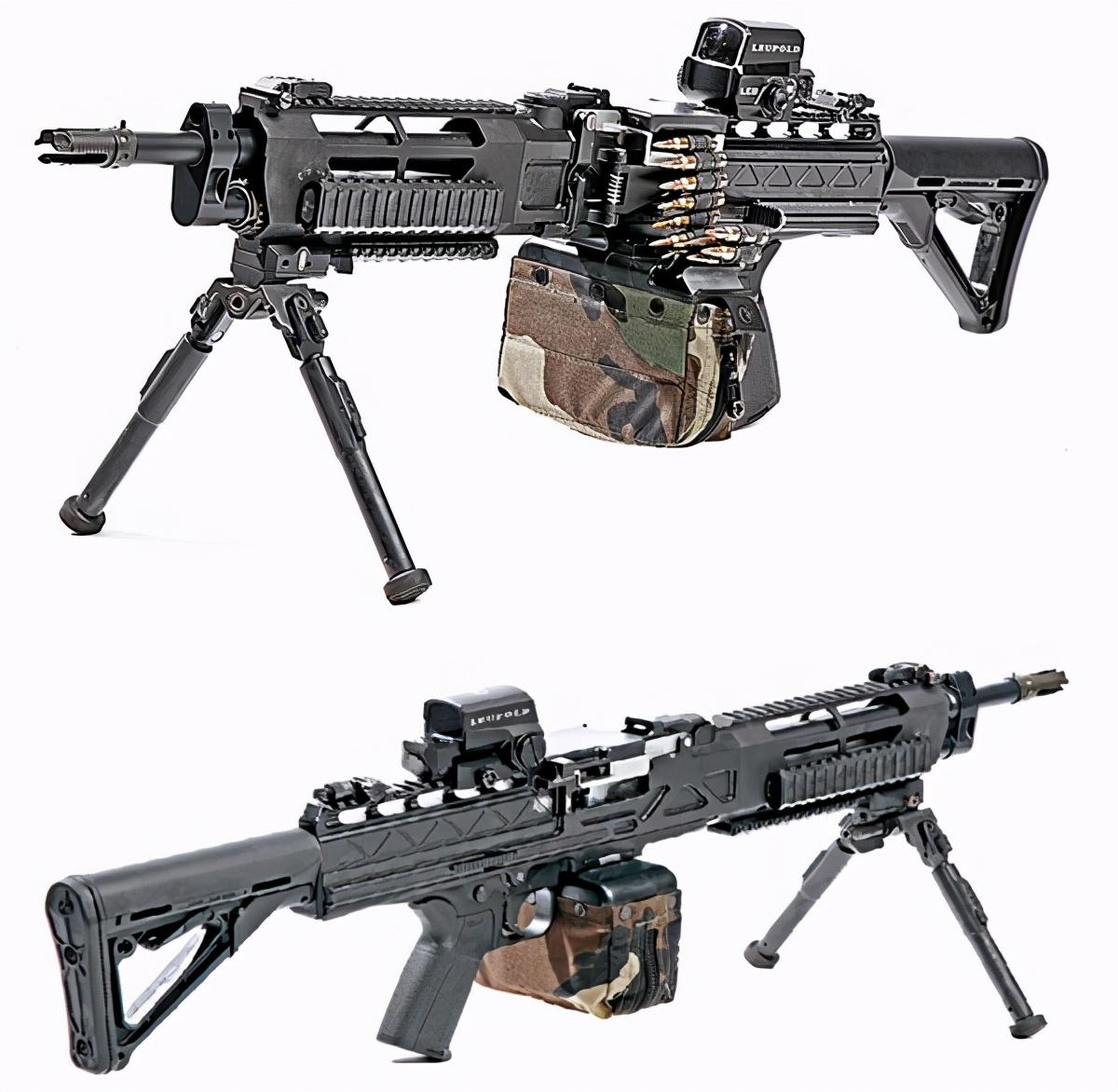larga: (33, 16, 1051, 614), (45, 659, 1072, 1076)
